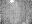person: (11, 1, 16, 5)
